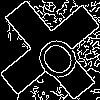O: (25, 25, 85, 86)
